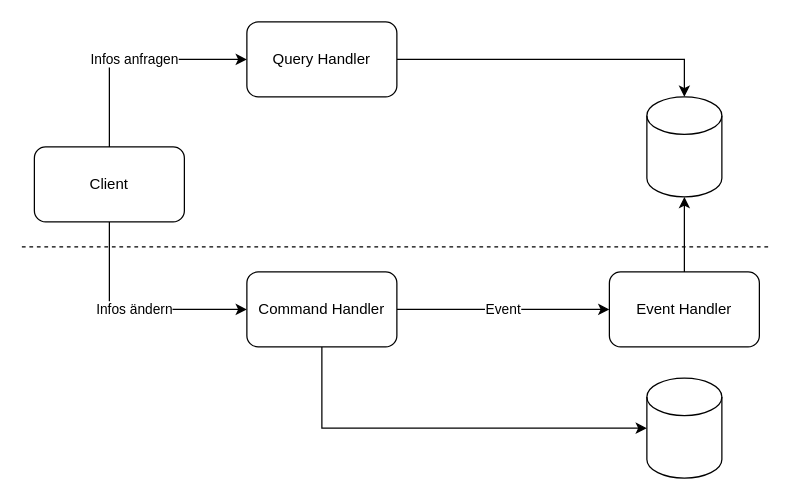
The diagram is 795 pixels wide and 500 high, and some of its shapes have lost their labels. Each missing label, with the centre of its shape:
Read DB: (684,146)
Write DB: (684,427)
